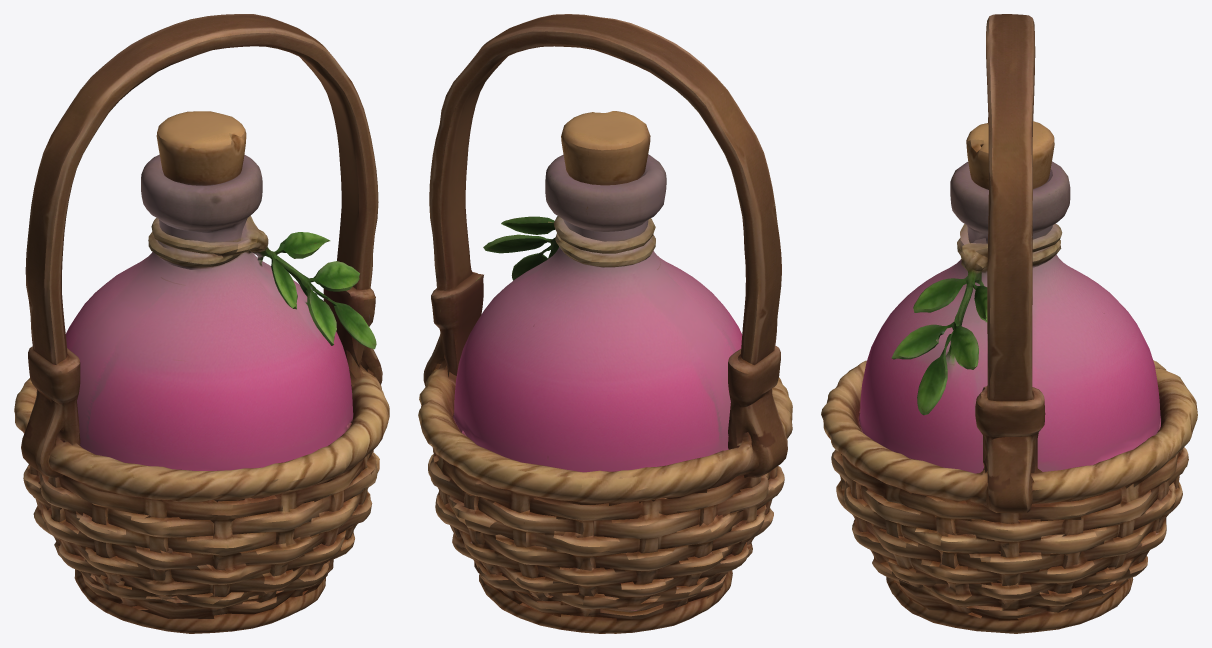
Rendered from potion_pickup.glb.
3 renders of one model, left to right at view 1: azimuth 30°, elevation 25°; view 2: azimuth 150°, elevation 25°; view 3: azimuth 270°, elevation 25°, orthographic.
Visible parts, largest first — view 1: Mesh_0; view 2: Mesh_0; view 3: Mesh_0.
Part boxes in pixels (<box>): Mesh_0: <box>14,14,389,633</box>; Mesh_0: <box>418,14,792,633</box>; Mesh_0: <box>821,14,1197,633</box>.
Size of the model in its own units: 1.24 by 1.9 by 1.18.
Materials: 1 (1 with a texture image).
